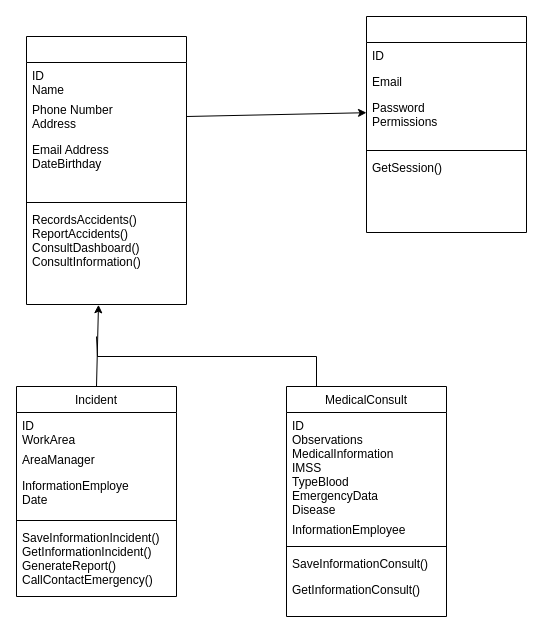
This 543x633 diagram has some shape labels left out. The box of each missing label's shape, as (x1, y1, x2, y2) in pixels:
Employee: (26, 36, 186, 304)
User: (366, 16, 526, 232)
